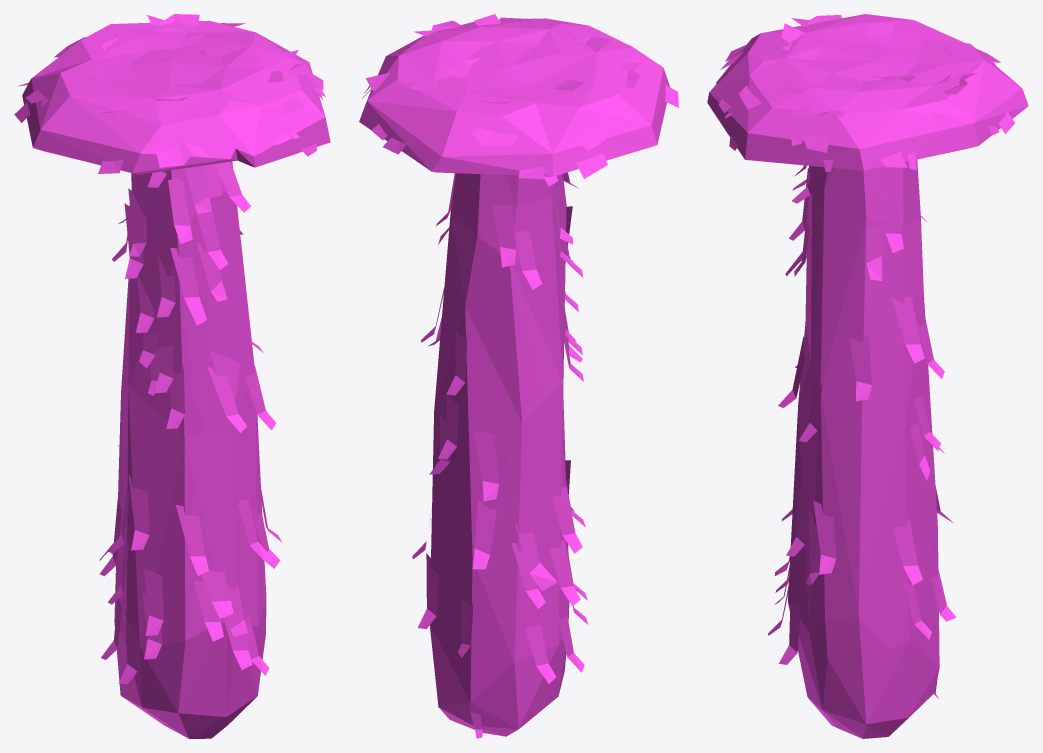
The model's file is SM_Mushroom_Fluffy_Giant_B_Fantasy.fbx.
3 renders of one model, left to right at view 1: azimuth 30°, elevation 25°; view 2: azimuth 150°, elevation 25°; view 3: azimuth 270°, elevation 25°, orthographic.
Parts seen in each view (by area): view 1: SM_Mushroom_Fluffy_Giant_B_Fantasy; view 2: SM_Mushroom_Fluffy_Giant_B_Fantasy; view 3: SM_Mushroom_Fluffy_Giant_B_Fantasy.
Boxes of the visible parts, <box> form: SM_Mushroom_Fluffy_Giant_B_Fantasy: <box>14,14,330,738</box>; SM_Mushroom_Fluffy_Giant_B_Fantasy: <box>359,14,678,738</box>; SM_Mushroom_Fluffy_Giant_B_Fantasy: <box>707,14,1028,738</box>.
Bounding box in the file's own units: 6.27 × 14.51 × 6.32.
